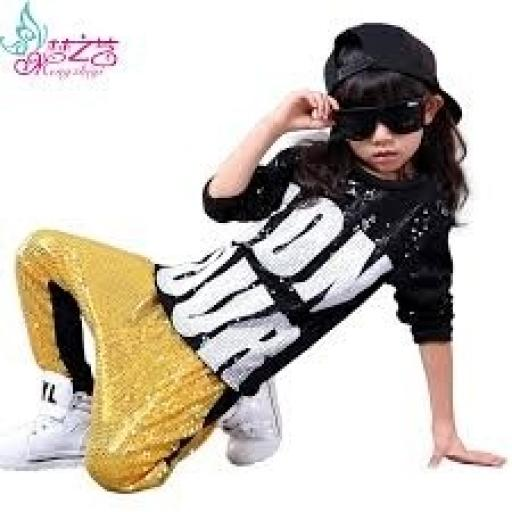dancing: (0, 18, 510, 496)
